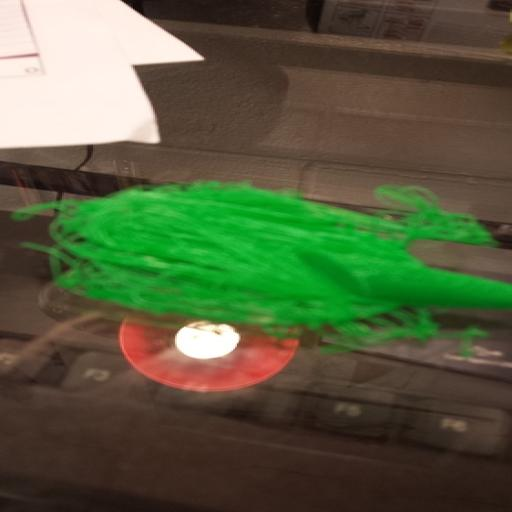spaghetti: (45, 166, 442, 360)
